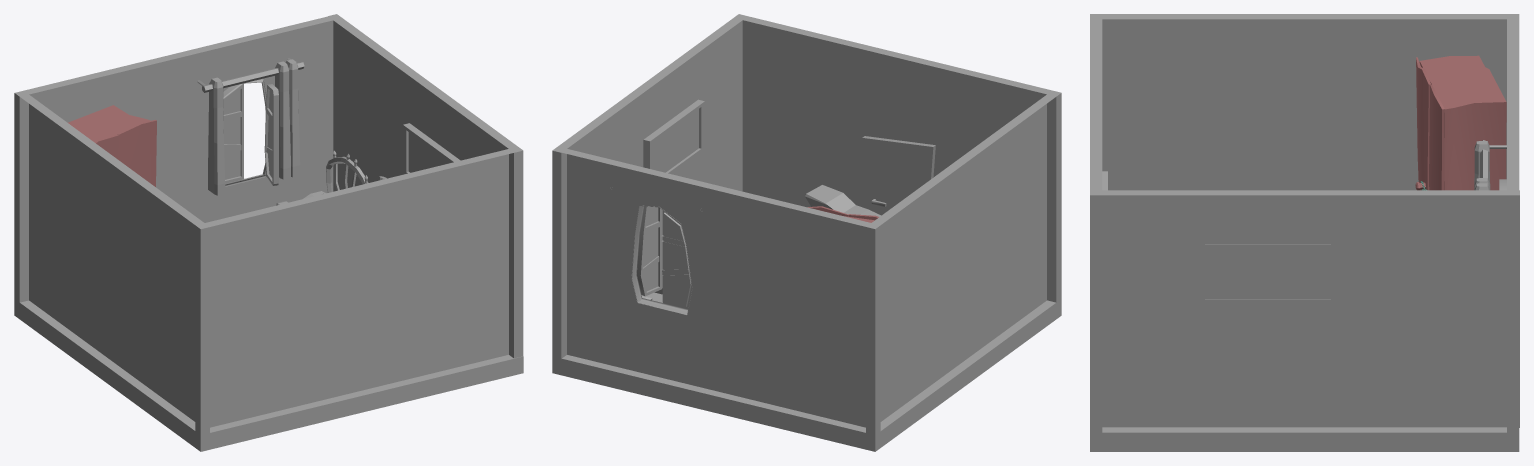
Rendered from chambre_bordel.fbx.
The picture shows the model from 3 angles, left to right: view 1: azimuth 30°, elevation 25°; view 2: azimuth 150°, elevation 25°; view 3: azimuth 270°, elevation 25°; orthographic projection. The views are drawn at different scales.
Parts seen in each view (by area): view 1: mur_front2, mur_left2, mur_back2, mur_right2, sol2, armoire_porte_R, Rideau2, fenetre11, tableau, armoire, Rideau1, fenetre17 (+3 smaller); view 2: mur_back2, mur_left2, mur_front2, mur_right2, sol2, porte_R5, tableau, fenetre11, fenetre17, fauteuil, fenetre15; view 3: mur_right2, mur_left2, sol2, armoire, mur_front2, mur_back2, armoire_porte_L, armoire_porte_R.
Boxes of the visible parts, x1,y1,x2,y2 form: mur_front2: [195, 146, 522, 434]; mur_left2: [20, 94, 209, 434]; mur_back2: [14, 14, 341, 302]; mur_right2: [328, 14, 523, 358]; sol2: [14, 299, 523, 451]; armoire_porte_R: [117, 119, 156, 186]; Rideau2: [208, 77, 225, 195]; fenetre11: [223, 84, 243, 183]; tableau: [403, 123, 460, 173]; armoire: [68, 105, 150, 142]; Rideau1: [275, 61, 290, 179]; fenetre17: [264, 84, 278, 185]; mur_back2: [553, 146, 880, 434]; mur_left2: [866, 90, 1057, 435]; mur_front2: [734, 14, 1061, 302]; mur_right2: [552, 18, 742, 358]; sol2: [552, 299, 1061, 451]; porte_R5: [862, 136, 935, 215]; tableau: [643, 99, 704, 173]; fenetre11: [661, 210, 691, 309]; fenetre17: [637, 206, 662, 296]; fauteuil: [805, 185, 881, 216]; fenetre15: [631, 205, 692, 314]; mur_right2: [1102, 190, 1519, 427]; mur_left2: [1090, 14, 1519, 190]; sol2: [1090, 427, 1519, 451]; armoire: [1419, 55, 1506, 190]; mur_front2: [1090, 14, 1102, 432]; mur_back2: [1507, 14, 1519, 432]; armoire_porte_L: [1415, 57, 1430, 190]; armoire_porte_R: [1429, 84, 1444, 190].
Bounding box in the file's own units: 532 × 351 × 532.
